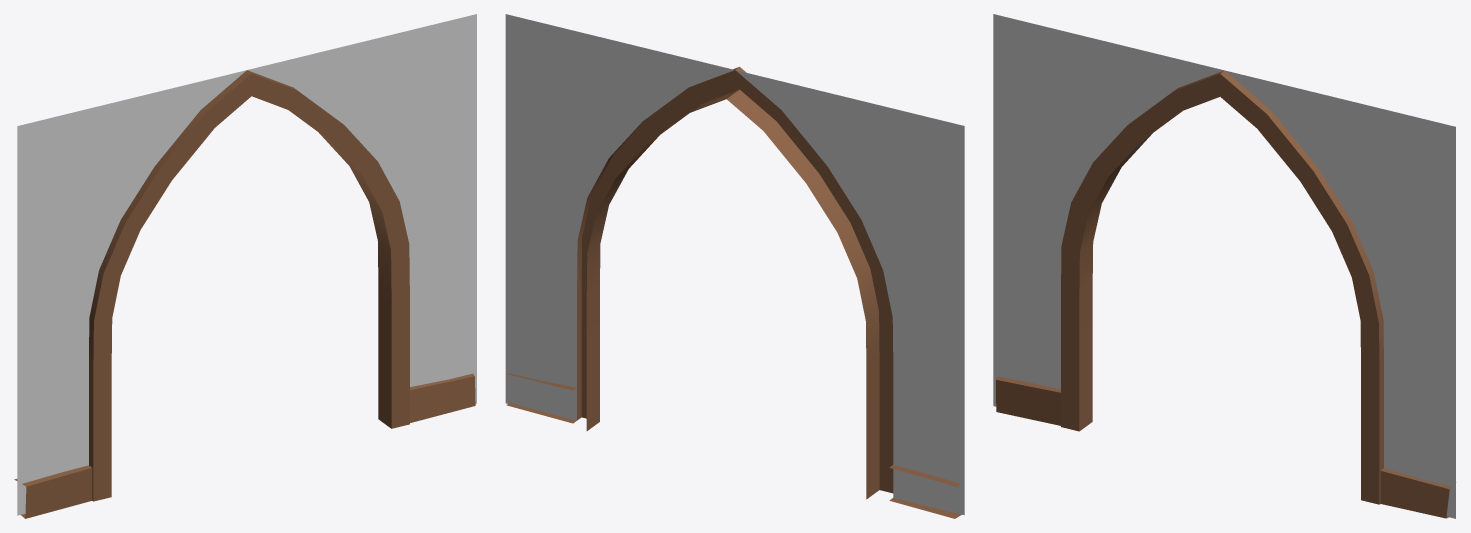
File: BoathouseWall.fbx
The picture shows the model from 3 angles, left to right: view 1: azimuth 30°, elevation 25°; view 2: azimuth 150°, elevation 25°; view 3: azimuth 330°, elevation 25°; orthographic projection.
Visible parts, largest first — view 1: BoathouseWall; view 2: BoathouseWall; view 3: BoathouseWall.
Boxes of the visible parts, x1,y1,x2,y2 form: BoathouseWall: [14, 14, 476, 518]; BoathouseWall: [505, 14, 964, 518]; BoathouseWall: [993, 14, 1456, 518].
Size of the model in its own units: 400 by 326 by 19.89.
